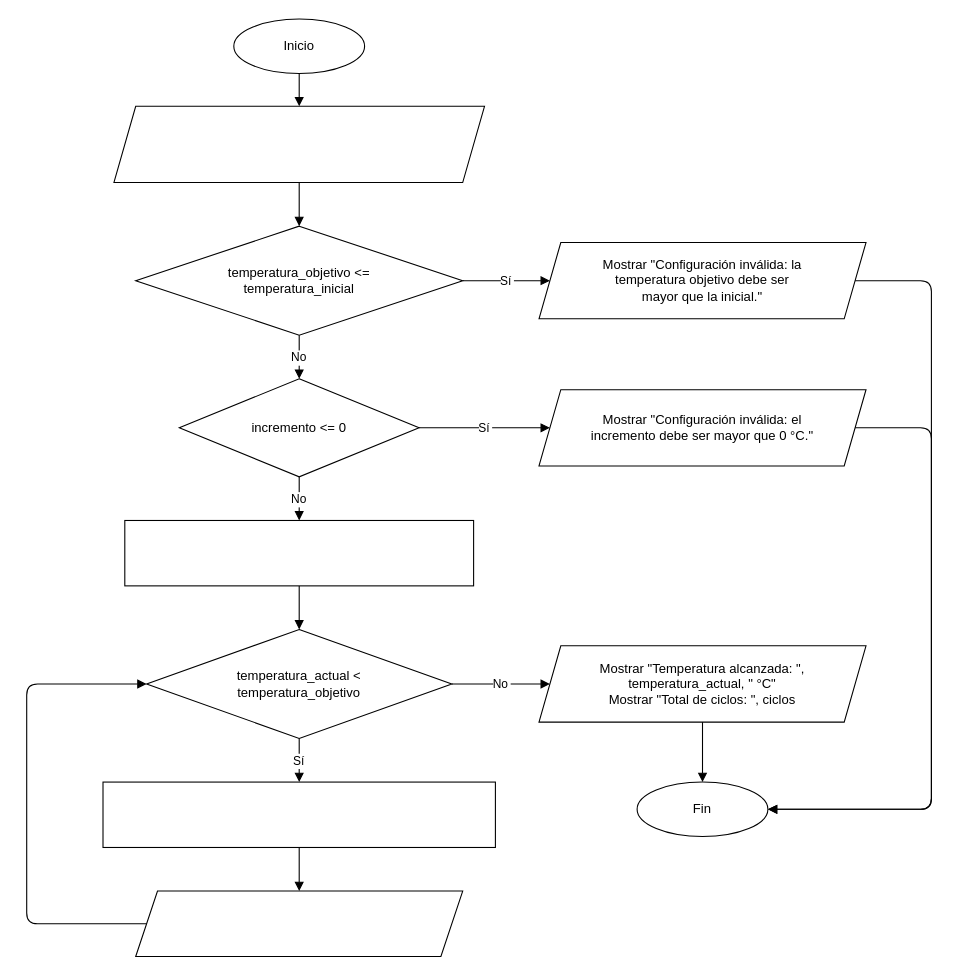
The diagram is 959 pixels wide and 976 high, and some of its shapes have lost their labels. Each missing label, with the centre of its shape:
Leer temperatura_inicial, temperatura_objetivo, incremento: (x=299, y=144)
Mostrar "Ciclo ", ciclos, ": ", temperatura_actual, " °C": (x=299, y=923)
temperatura_actual = temperatura_actual + incremento ciclos = ciclos + 1: (x=298, y=814)
temperatura_actual = temperatura_inicial ciclos = 0: (x=299, y=552)
